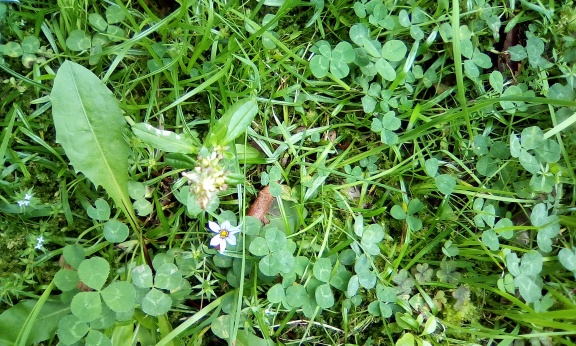4leaf: (247, 227, 295, 277), (309, 39, 355, 79), (367, 284, 396, 318)
